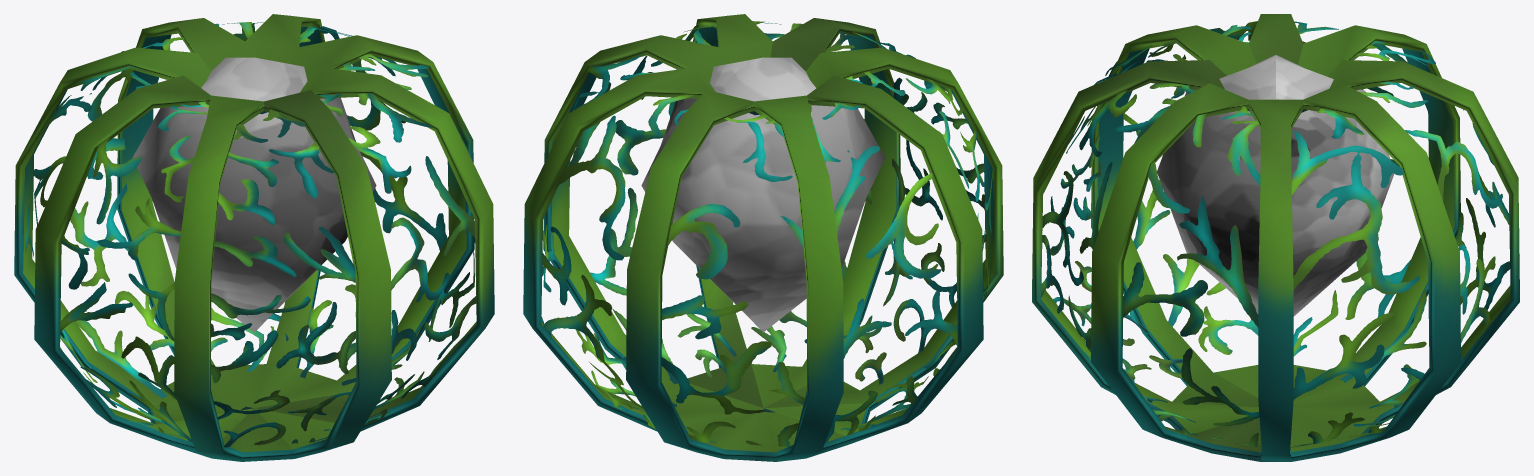
File: onePossesionBlock.dae
The picture shows the model from 3 angles, left to right: view 1: azimuth 30°, elevation 25°; view 2: azimuth 150°, elevation 25°; view 3: azimuth 270°, elevation 25°; orthographic projection.
Parts seen in each view (by area): view 1: polySurface1; view 2: polySurface1; view 3: polySurface1.
Boxes of the visible parts, x1,y1,x2,y2 form: polySurface1: [14, 14, 494, 461]; polySurface1: [523, 14, 1003, 461]; polySurface1: [1032, 14, 1519, 461].
Size of the model in its own units: 2.05 by 1.67 by 2.05.
